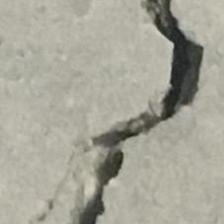Crack: (49, 0, 224, 224)
